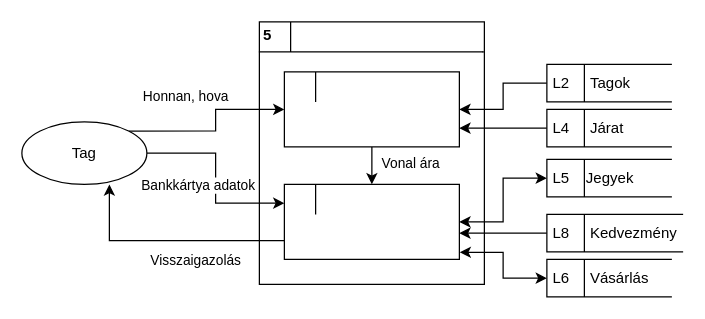
This 705x319 diagram has some shape labels left out. Here are the shapes that lost their labels. From the top down, the centre of each, then its label:
the point at 371,109: 5.1 Vonalszám kiválasztása
the point at 371,221: 5.2 Jegy kifizetése
